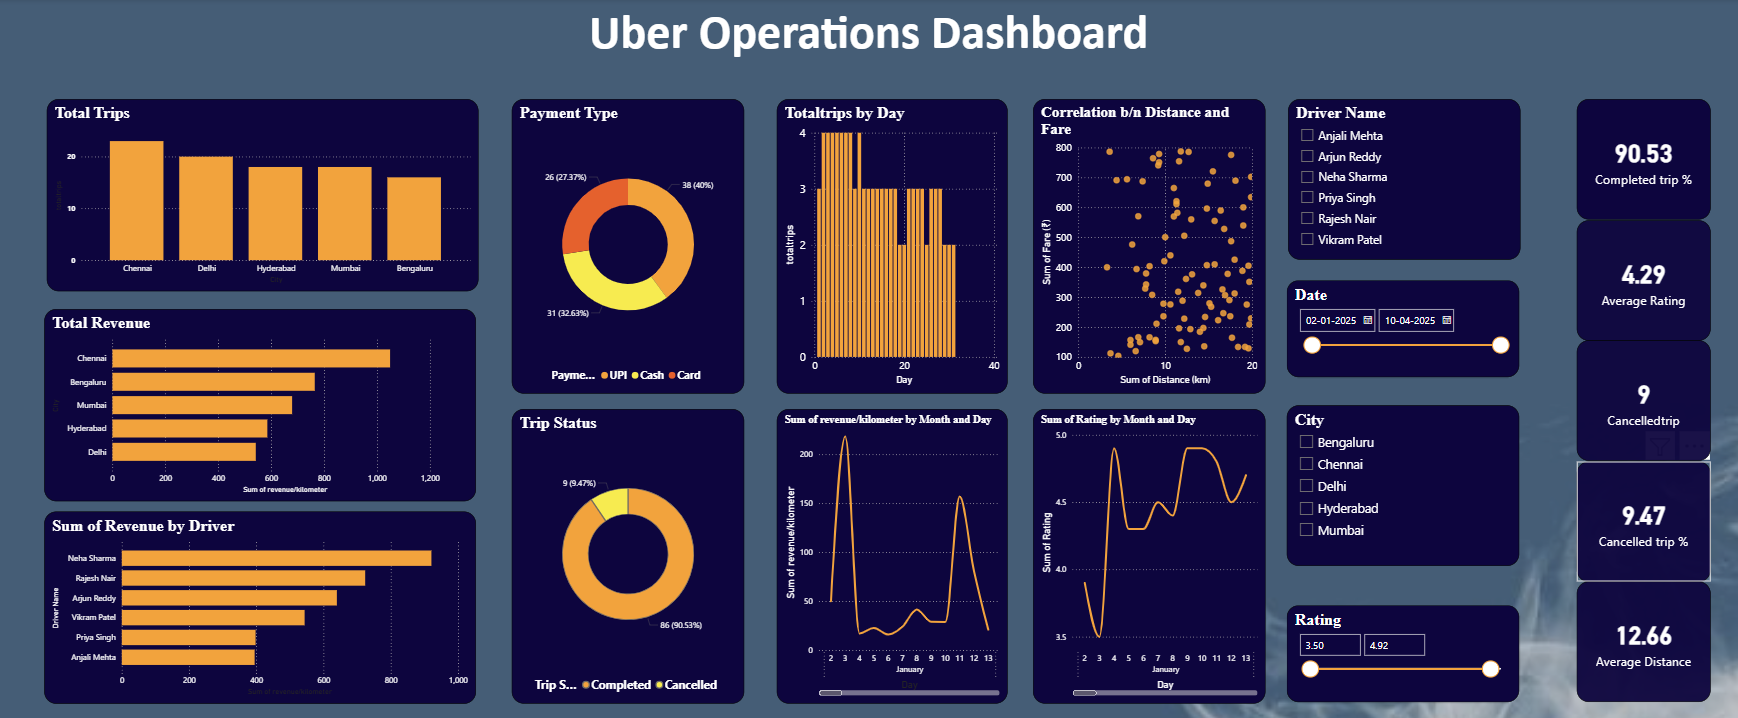

Layout of this report page (visuals, bound fields, positions):
{"tool":"powerbi","page":{"name":"Page 1","canvas":[2600,1080],"ordinal":0},"visuals":[{"type":"textbox","box":[0,0,2600.4,115.7],"z":0},{"type":"card","fields":{"Values":["Sheet1.Average Distance"]},"box":[2357.5,870,200,180],"z":1000},{"type":"card","fields":{"Values":["Sheet1.Average Rating"]},"box":[2357.5,330,200,180],"z":2000},{"type":"card","fields":{"Values":["Sheet1.Cancelled trip %"]},"box":[2357.5,690,200,180],"z":3000},{"type":"card","fields":{"Values":["Sheet1.Cancelledtrip"]},"box":[2357.5,510,200,180],"z":4000},{"type":"card","fields":{"Values":["Sheet1.Completed trip %"]},"box":[2357.5,150,200,180],"z":5000},{"type":"clusteredColumnChart","title":"Total Trips","fields":{"Category":["Sheet1.City"],"Y":["Sheet1.totaltrips"]},"box":[72.5,150,645,287.5],"z":6000},{"type":"clusteredBarChart","title":"Total Revenue","fields":{"Y":["Sum(Sheet1.revenue/kilometer)"],"Category":["Sheet1.City"]},"box":[70,462.5,645,287.5],"z":7000},{"type":"barChart","title":"Sum of Revenue by Driver","fields":{"Category":["Sheet1.Driver Name"],"Y":["Sum(Sheet1.revenue/kilometer)"]},"box":[70,765,645,287.5],"z":8000},{"type":"donutChart","title":" Payment Type","fields":{"Y":["Sheet1.totaltrips"],"Category":["Sheet1.Payment Type"]},"box":[767.5,150,347.5,440],"z":9000},{"type":"donutChart","title":" Trip Status","fields":{"Y":["Sheet1.totaltrips"],"Category":["Sheet1.Trip Status"]},"box":[767.5,612.5,347.5,440],"z":10000},{"type":"lineChart","fields":{"Y":["Sum(Sheet1.revenue/kilometer)"],"Category":["Sheet1.Date.Variation.Date Hierarchy.Month","Sheet1.Date.Variation.Date Hierarchy.Day"]},"box":[1162.5,612.5,345,440],"z":11000},{"type":"lineChart","fields":{"Y":["Sum(Sheet1.Rating)"],"Category":["Sheet1.Date.Variation.Date Hierarchy.Month","Sheet1.Date.Variation.Date Hierarchy.Day"]},"box":[1545,612.5,347.5,440],"z":12000},{"type":"slicer","title":"City","fields":{"Values":["Sheet1.City"]},"box":[1925,607.5,347.5,240],"z":13000},{"type":"slicer","title":"Date","fields":{"Values":["Sheet1.Date"]},"box":[1925,420,347.5,145],"z":14000},{"type":"slicer","title":"Driver Name","fields":{"Values":["Sheet1.Driver Name"]},"box":[1926,150,347,240],"z":16000},{"type":"slicer","title":"Rating","fields":{"Values":["Sheet1.Rating"]},"box":[1925,905,347.5,145],"z":17000},{"type":"clusteredColumnChart","title":"Totaltrips by Day","fields":{"Category":["Sheet1.Day"],"Y":["Sheet1.totaltrips"]},"box":[1162.5,150,345,440],"z":18000},{"type":"scatterChart","title":"Correlation b/n Distance and Fare","fields":{"X":["Sum(Sheet1.Distance (km))"],"Y":["Sum(Sheet1.Fare (₹))"],"Category":["Sheet1.Trip ID"]},"box":[1545,150,347,440],"z":19000}]}

Visuals, with their boxes in screenshot pixels (x1, y1, x2, y2), scaled from the page's 2600x1080 canvas onto the 1738x718 screenshot:
textbox: (0, 0, 1737, 77)
card - Sheet1.Average Distance: (1576, 578, 1710, 698)
card - Sheet1.Average Rating: (1576, 219, 1710, 339)
card - Sheet1.Cancelled trip %: (1576, 459, 1710, 578)
card - Sheet1.Cancelledtrip: (1576, 339, 1710, 459)
card - Sheet1.Completed trip %: (1576, 100, 1710, 219)
"Total Trips" clusteredColumnChart: (48, 100, 480, 291)
"Total Revenue" clusteredBarChart: (47, 307, 478, 499)
"Sum of Revenue by Driver" barChart: (47, 509, 478, 700)
" Payment Type" donutChart: (513, 100, 745, 392)
" Trip Status" donutChart: (513, 407, 745, 700)
lineChart - Sum(Sheet1.revenue/kilometer) x Sheet1.Date.Variation.Date Hierarchy.Month: (777, 407, 1008, 700)
lineChart - Sum(Sheet1.Rating) x Sheet1.Date.Variation.Date Hierarchy.Month: (1033, 407, 1265, 700)
"City" slicer: (1287, 404, 1519, 563)
"Date" slicer: (1287, 279, 1519, 376)
"Driver Name" slicer: (1287, 100, 1519, 259)
"Rating" slicer: (1287, 602, 1519, 698)
"Totaltrips by Day" clusteredColumnChart: (777, 100, 1008, 392)
"Correlation b/n Distance and Fare" scatterChart: (1033, 100, 1265, 392)
